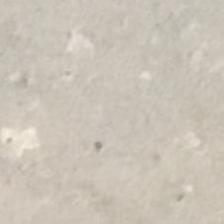Non_Crack: (26, 19, 216, 194)
